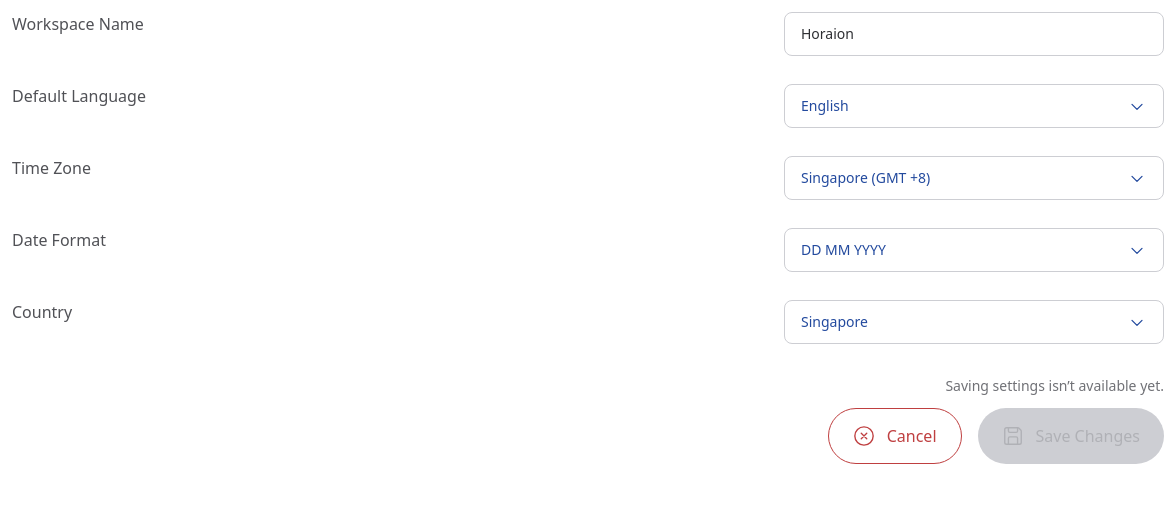
Scenario: returns every edited field to its loaded value on Cancel and clears errors
Clear the field labelled "Workspace Name" at (974, 34), box [801, 24, 1147, 44]
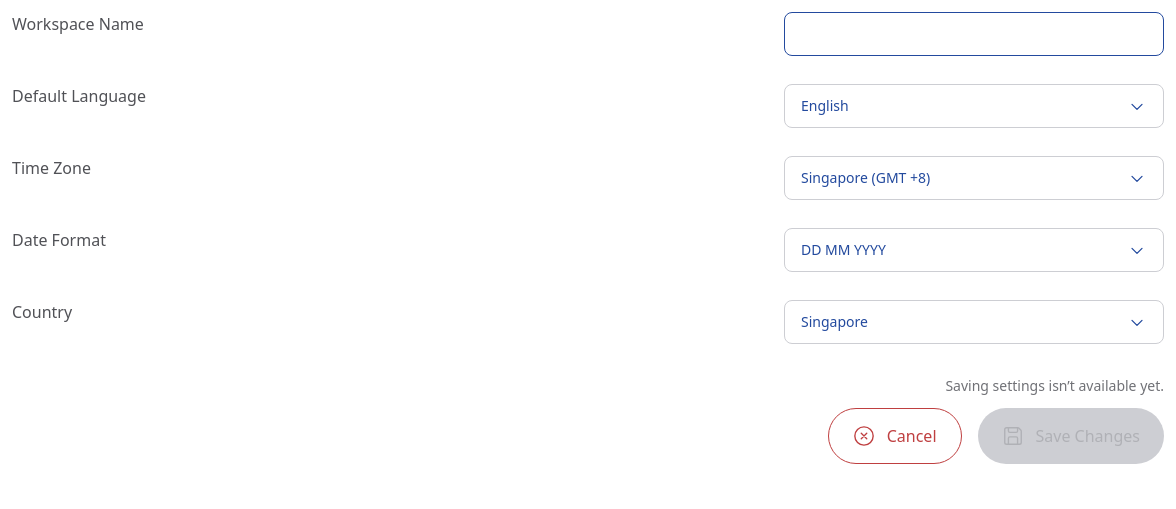
Press Tab
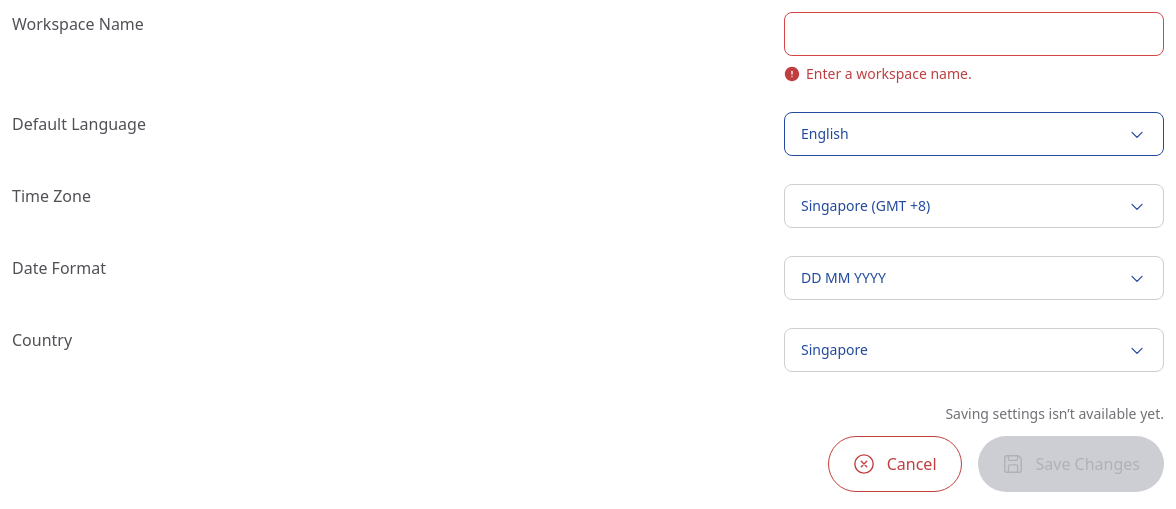
Now the message reads "Enter a workspace name.", box [806, 64, 972, 83]
Click the button named "Date Format" at (843, 278), box [784, 256, 1164, 300]
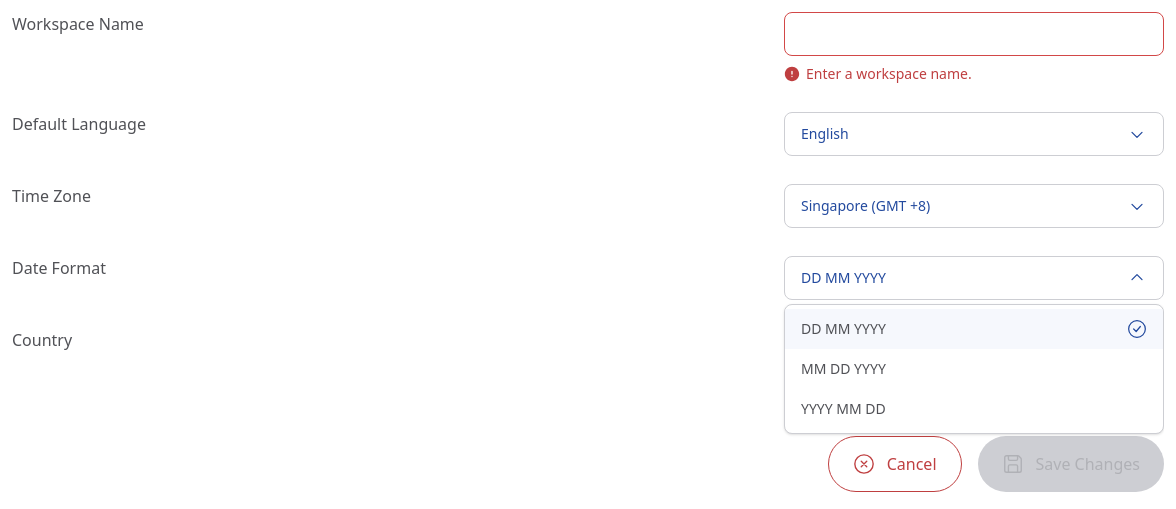
Click the option "YYYY MM DD" at (843, 408), box [801, 399, 886, 418]
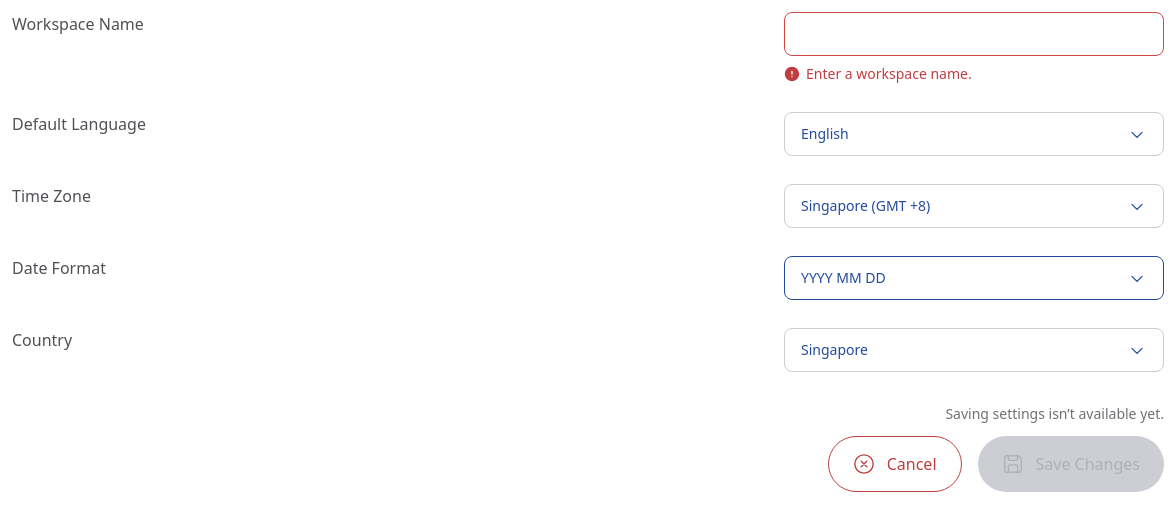
Now the button named "Date Format" reads "YYYY MM DD", box [784, 256, 1164, 300]
Click the button "Cancel" at (895, 464), box [828, 436, 962, 492]
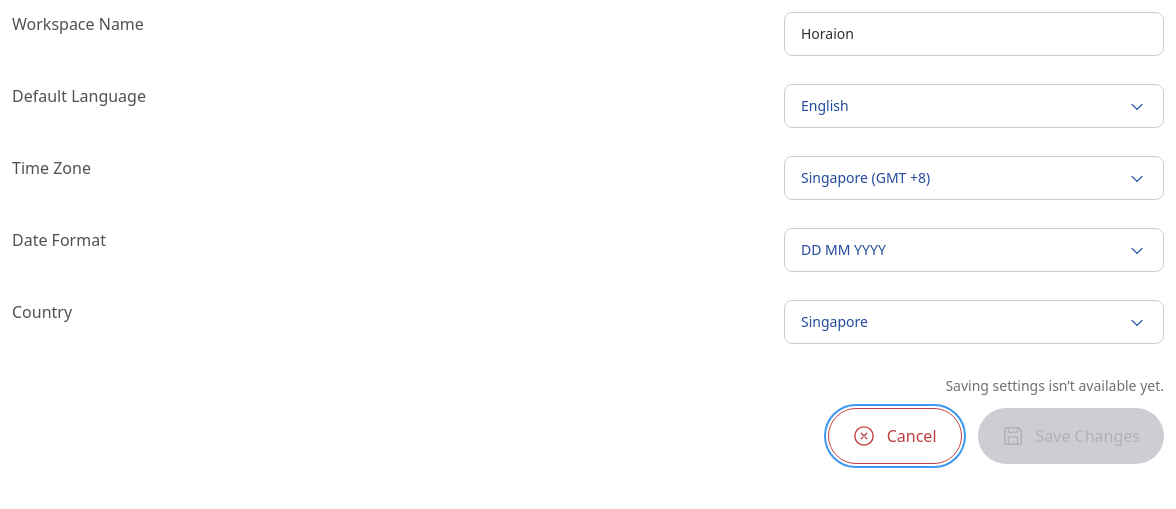
Now the field labelled "Workspace Name" holds "Horaion", box [801, 24, 1147, 44]
Now the button named "Date Format" reads "DD MM YYYY", box [784, 228, 1164, 272]
Now the message "Enter a workspace name." is gone
